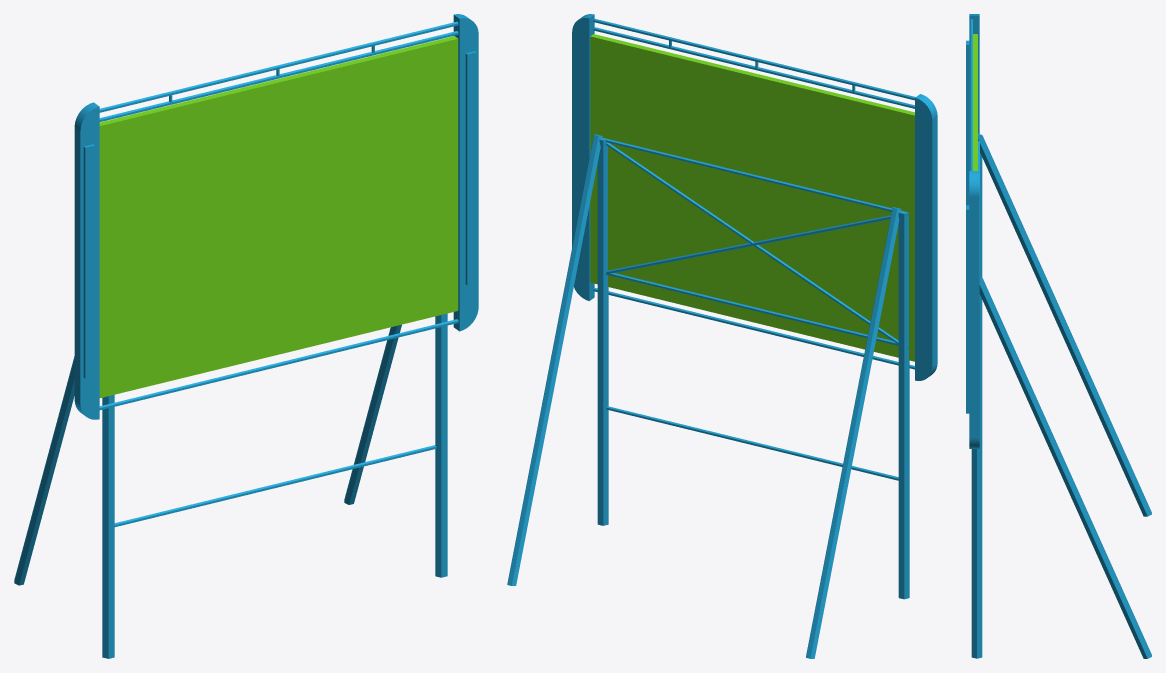
The model's file is Commercial_Panel_02C_Base_Lod0.fbx.
The picture shows the model from 3 angles, left to right: view 1: azimuth 30°, elevation 25°; view 2: azimuth 150°, elevation 25°; view 3: azimuth 270°, elevation 25°; orthographic projection. The views are drawn at different scales.
Visible parts, largest first — view 1: Commercial_Panel_02C_Base_Lod0; view 2: Commercial_Panel_02C_Base_Lod0; view 3: Commercial_Panel_02C_Base_Lod0.
Boxes of the visible parts, bbox=[...] form: Commercial_Panel_02C_Base_Lod0: bbox=[14, 14, 478, 658]; Commercial_Panel_02C_Base_Lod0: bbox=[507, 14, 937, 658]; Commercial_Panel_02C_Base_Lod0: bbox=[966, 14, 1151, 658].
Bounding box in the file's own units: 844 × 1125 × 386.
